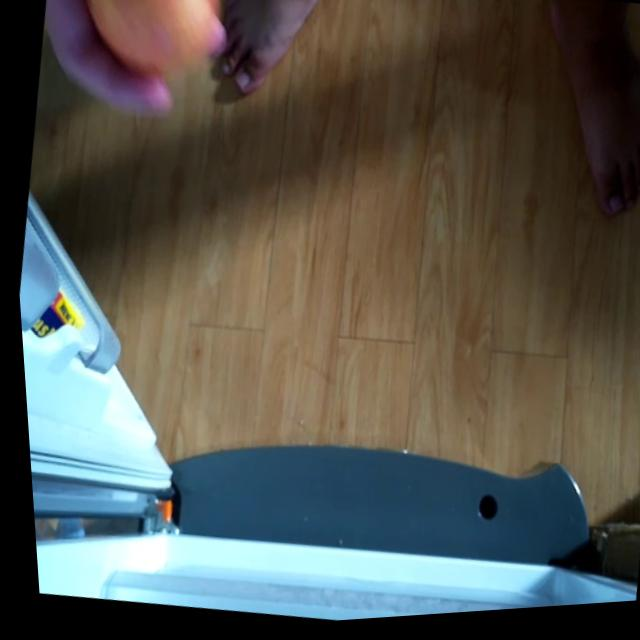apple: (63, 0, 231, 93)
